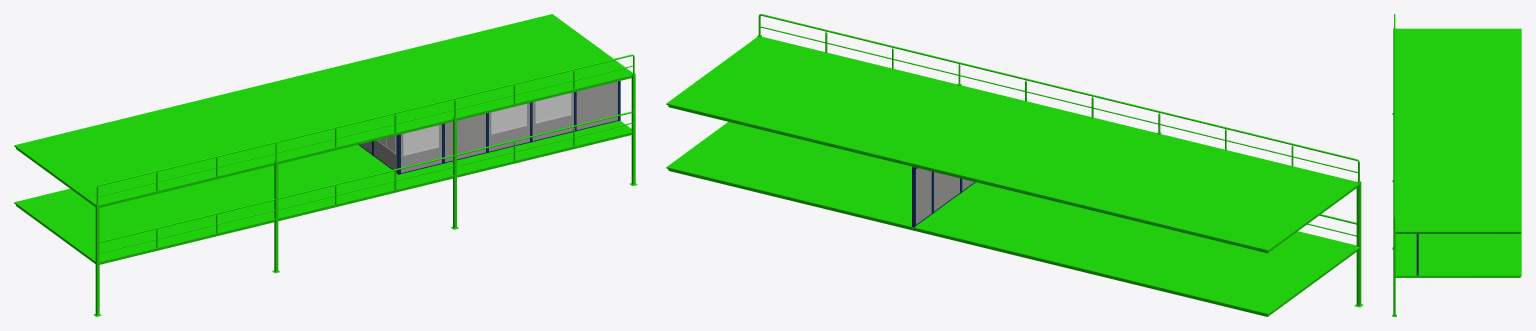
Rendered from Mezzanine2.fbx.
The picture shows the model from 3 angles, left to right: view 1: azimuth 30°, elevation 25°; view 2: azimuth 150°, elevation 25°; view 3: azimuth 270°, elevation 25°; orthographic projection. The views are drawn at different scales.
Parts seen in each view (by area): view 1: MagazineMezzainePlatform.001, MagazineMezzainePlatform, MagazineMezzaineBarriers.001, MagazineMezzaineBarriers, MagazineMezzaine, Wall.014, Wall.007, Wall.013, Wall.009, Wall.008, Window.001, Window (+2 smaller); view 2: MagazineMezzainePlatform.001, MagazineMezzainePlatform, MagazineMezzaineBarriers.001, Wall.012, Wall.011, MagazineMezzaine; view 3: MagazineMezzainePlatform.001, MagazineMezzainePlatform, MagazineMezzaine, MagazineMezzaineBarriers.001, Wall.014.
Part boxes in pixels (x1,y1,x2,y2): MagazineMezzainePlatform.001: [14, 14, 632, 207]; MagazineMezzainePlatform: [14, 120, 632, 264]; MagazineMezzaineBarriers.001: [96, 54, 634, 204]; MagazineMezzaineBarriers: [99, 111, 632, 253]; MagazineMezzaine: [93, 73, 637, 316]; Wall.014: [576, 81, 620, 130]; Wall.007: [445, 113, 488, 163]; Wall.013: [397, 123, 444, 174]; Wall.009: [532, 91, 576, 141]; Wall.008: [489, 102, 532, 152]; Window.001: [535, 93, 571, 123]; Window: [491, 103, 526, 134]; MagazineMezzainePlatform.001: [666, 36, 1359, 253]; MagazineMezzainePlatform: [666, 122, 1359, 316]; MagazineMezzaineBarriers.001: [758, 14, 1359, 181]; Wall.012: [912, 167, 931, 227]; Wall.011: [931, 171, 960, 214]; MagazineMezzaine: [757, 35, 1362, 307]; MagazineMezzainePlatform.001: [1395, 28, 1521, 233]; MagazineMezzainePlatform: [1395, 232, 1521, 277]; MagazineMezzaine: [1392, 28, 1396, 316]; MagazineMezzaineBarriers.001: [1394, 14, 1395, 230]; Wall.014: [1416, 234, 1418, 275].
Size of the model in its own units: 3029 by 697 by 812.
